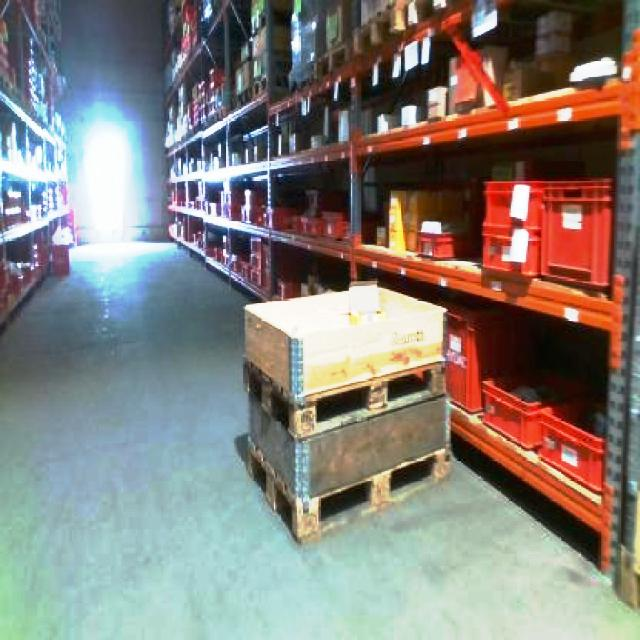ground: (0, 237, 638, 638)
pallet: (158, 0, 638, 618), (240, 278, 452, 543), (0, 2, 74, 597), (609, 25, 638, 635)
